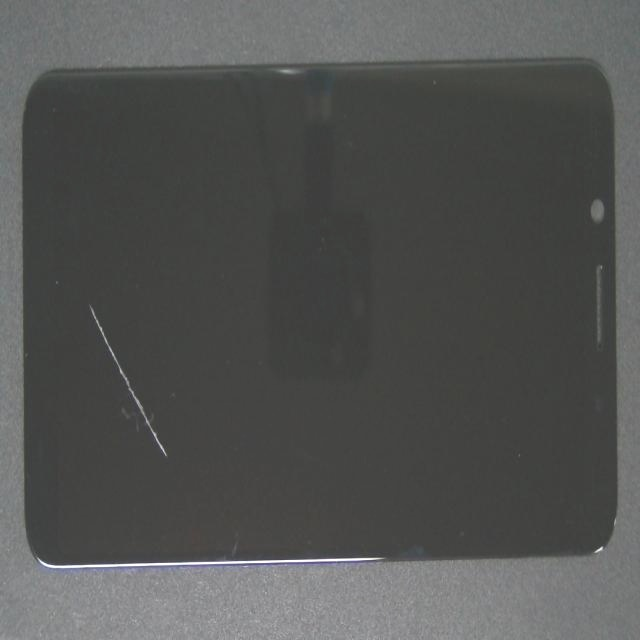scratch: (110, 304, 250, 640)
